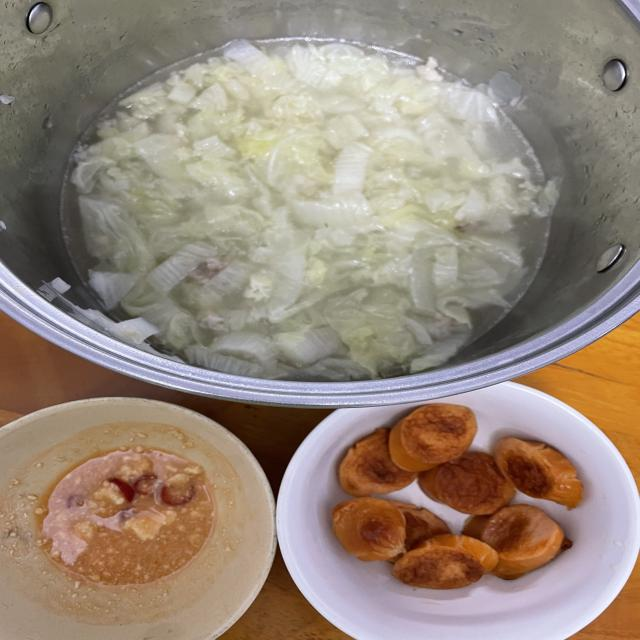canh cai: (71, 46, 557, 380)
